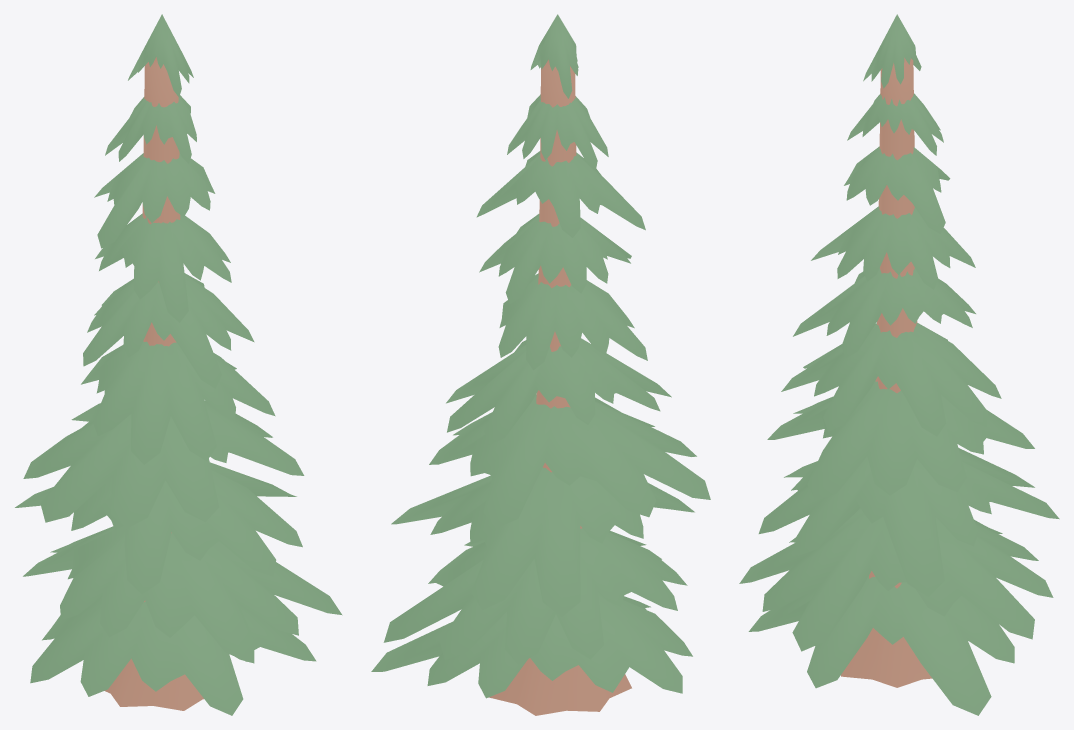
File: Blender_RedCedar_1.glb
3 renders of one model, left to right at view 1: azimuth 30°, elevation 25°; view 2: azimuth 150°, elevation 25°; view 3: azimuth 270°, elevation 25°, orthographic. The views are drawn at different scales.
Visible parts, largest first — view 1: Blender_RedCedar_1; view 2: Blender_RedCedar_1; view 3: Blender_RedCedar_1.
Boxes of the visible parts, x1,y1,x2,y2 form: Blender_RedCedar_1: [15, 14, 342, 715]; Blender_RedCedar_1: [371, 14, 710, 715]; Blender_RedCedar_1: [739, 14, 1059, 715].
Bounding box in the file's own units: 21.62 × 48.54 × 21.92.
